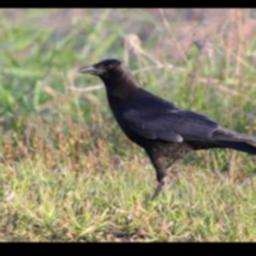Crow: (76, 57, 256, 206)
